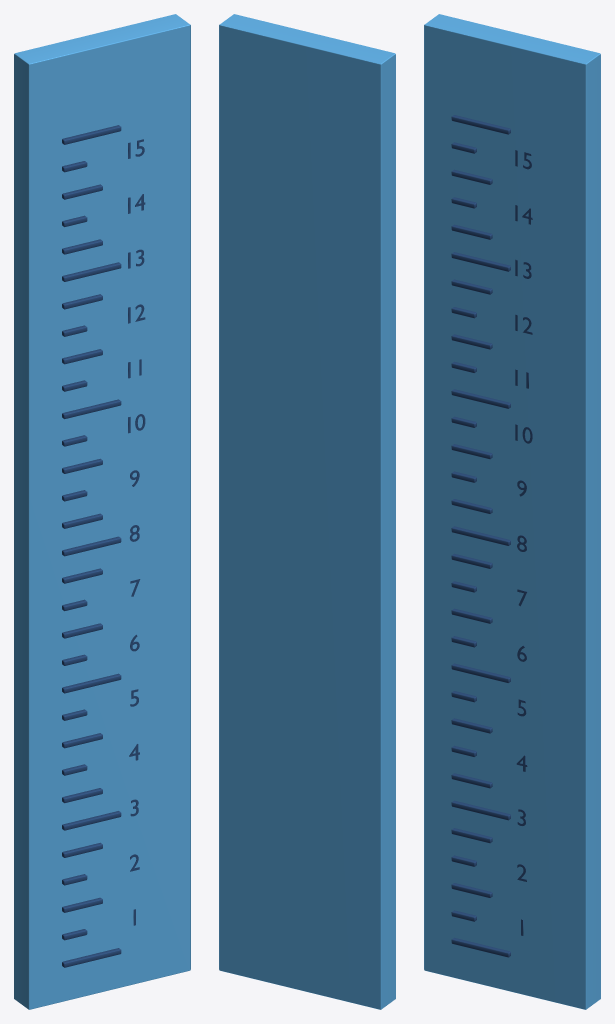
Rendered from Ruler.fbx.
3 renders of one model, left to right at view 1: azimuth 30°, elevation 25°; view 2: azimuth 150°, elevation 25°; view 3: azimuth 330°, elevation 25°, orthographic.
Visible parts, largest first — view 1: Traco da regua.012; view 2: Traco da regua.012; view 3: Traco da regua.012.
Part boxes in pixels (box(x1,y1,x2,y2)): Traco da regua.012: box(14, 14, 190, 1009); Traco da regua.012: box(219, 14, 395, 1009); Traco da regua.012: box(424, 14, 600, 1009).
Size of the model in its own units: 62 by 345 by 12.6.
